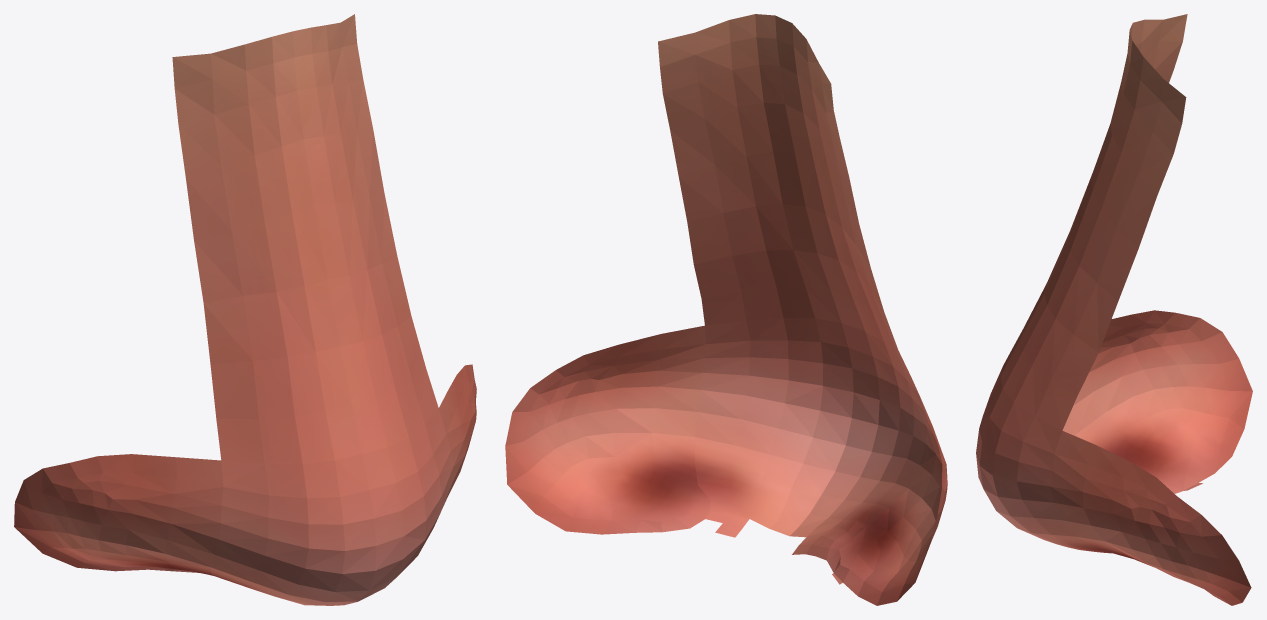
File: euro-nose-bridge-shallow.obj
The picture shows the model from 3 angles, left to right: view 1: azimuth 30°, elevation 25°; view 2: azimuth 150°, elevation 25°; view 3: azimuth 270°, elevation 25°; orthographic projection. The views are drawn at different scales.
Visible parts, largest first — view 1: euro-nose-bridge-shal.001; view 2: euro-nose-bridge-shal.001; view 3: euro-nose-bridge-shal.001.
Part boxes in pixels (x1,y1,x2,y2): euro-nose-bridge-shal.001: [14, 14, 476, 605]; euro-nose-bridge-shal.001: [505, 14, 947, 605]; euro-nose-bridge-shal.001: [976, 14, 1252, 605].
Size of the model in its own units: 0.2098 by 0.2517 by 0.1216.
1 material, 1 textured.
